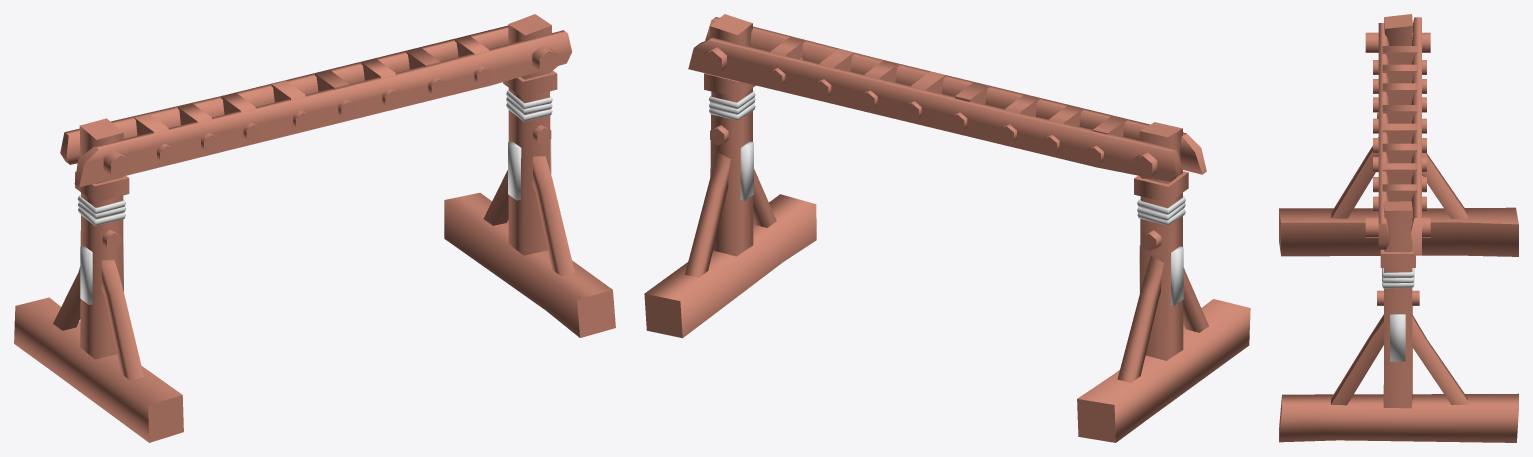
The model's file is weaponholder.fbx.
3 views of the same model, side by side, from view 1: azimuth 30°, elevation 25°; view 2: azimuth 150°, elevation 25°; view 3: azimuth 270°, elevation 25° (orthographic). The views are drawn at different scales.
Visible parts, largest first — view 1: Cube.195, Cube.194; view 2: Cube.195, Cube.194; view 3: Cube.195, Cube.194.
Part boxes in pixels (bbox=[...]): Cube.195: bbox=[14, 14, 615, 442]; Cube.194: bbox=[77, 90, 552, 304]; Cube.195: bbox=[644, 14, 1250, 442]; Cube.194: bbox=[709, 91, 1185, 305]; Cube.195: bbox=[1279, 14, 1518, 442]; Cube.194: bbox=[1382, 268, 1414, 361].
Size of the model in its own units: 2.64 by 1.33 by 1.26.
